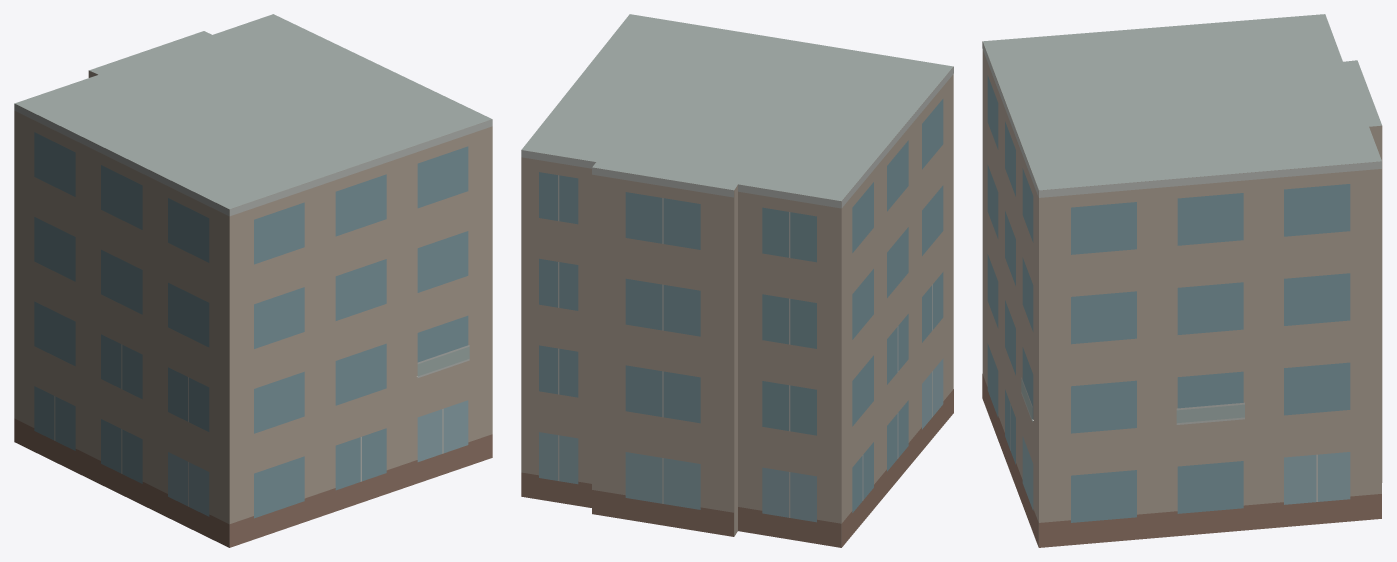
The model's file is survey-upis-32872252.glb.
The picture shows the model from 3 angles, left to right: view 1: azimuth 30°, elevation 25°; view 2: azimuth 150°, elevation 25°; view 3: azimuth 270°, elevation 25°; orthographic projection. The views are drawn at different scales.
Visible parts, largest first — view 1: survey-upis-32872252.tmp; view 2: survey-upis-32872252.tmp; view 3: survey-upis-32872252.tmp.
Boxes of the visible parts, x1=… form: survey-upis-32872252.tmp: x1=14, y1=14, x2=492, y2=547; survey-upis-32872252.tmp: x1=521, y1=14, x2=953, y2=547; survey-upis-32872252.tmp: x1=982, y1=14, x2=1382, y2=547.
Size of the model in its own units: 12.29 by 11.6 by 11.77.
